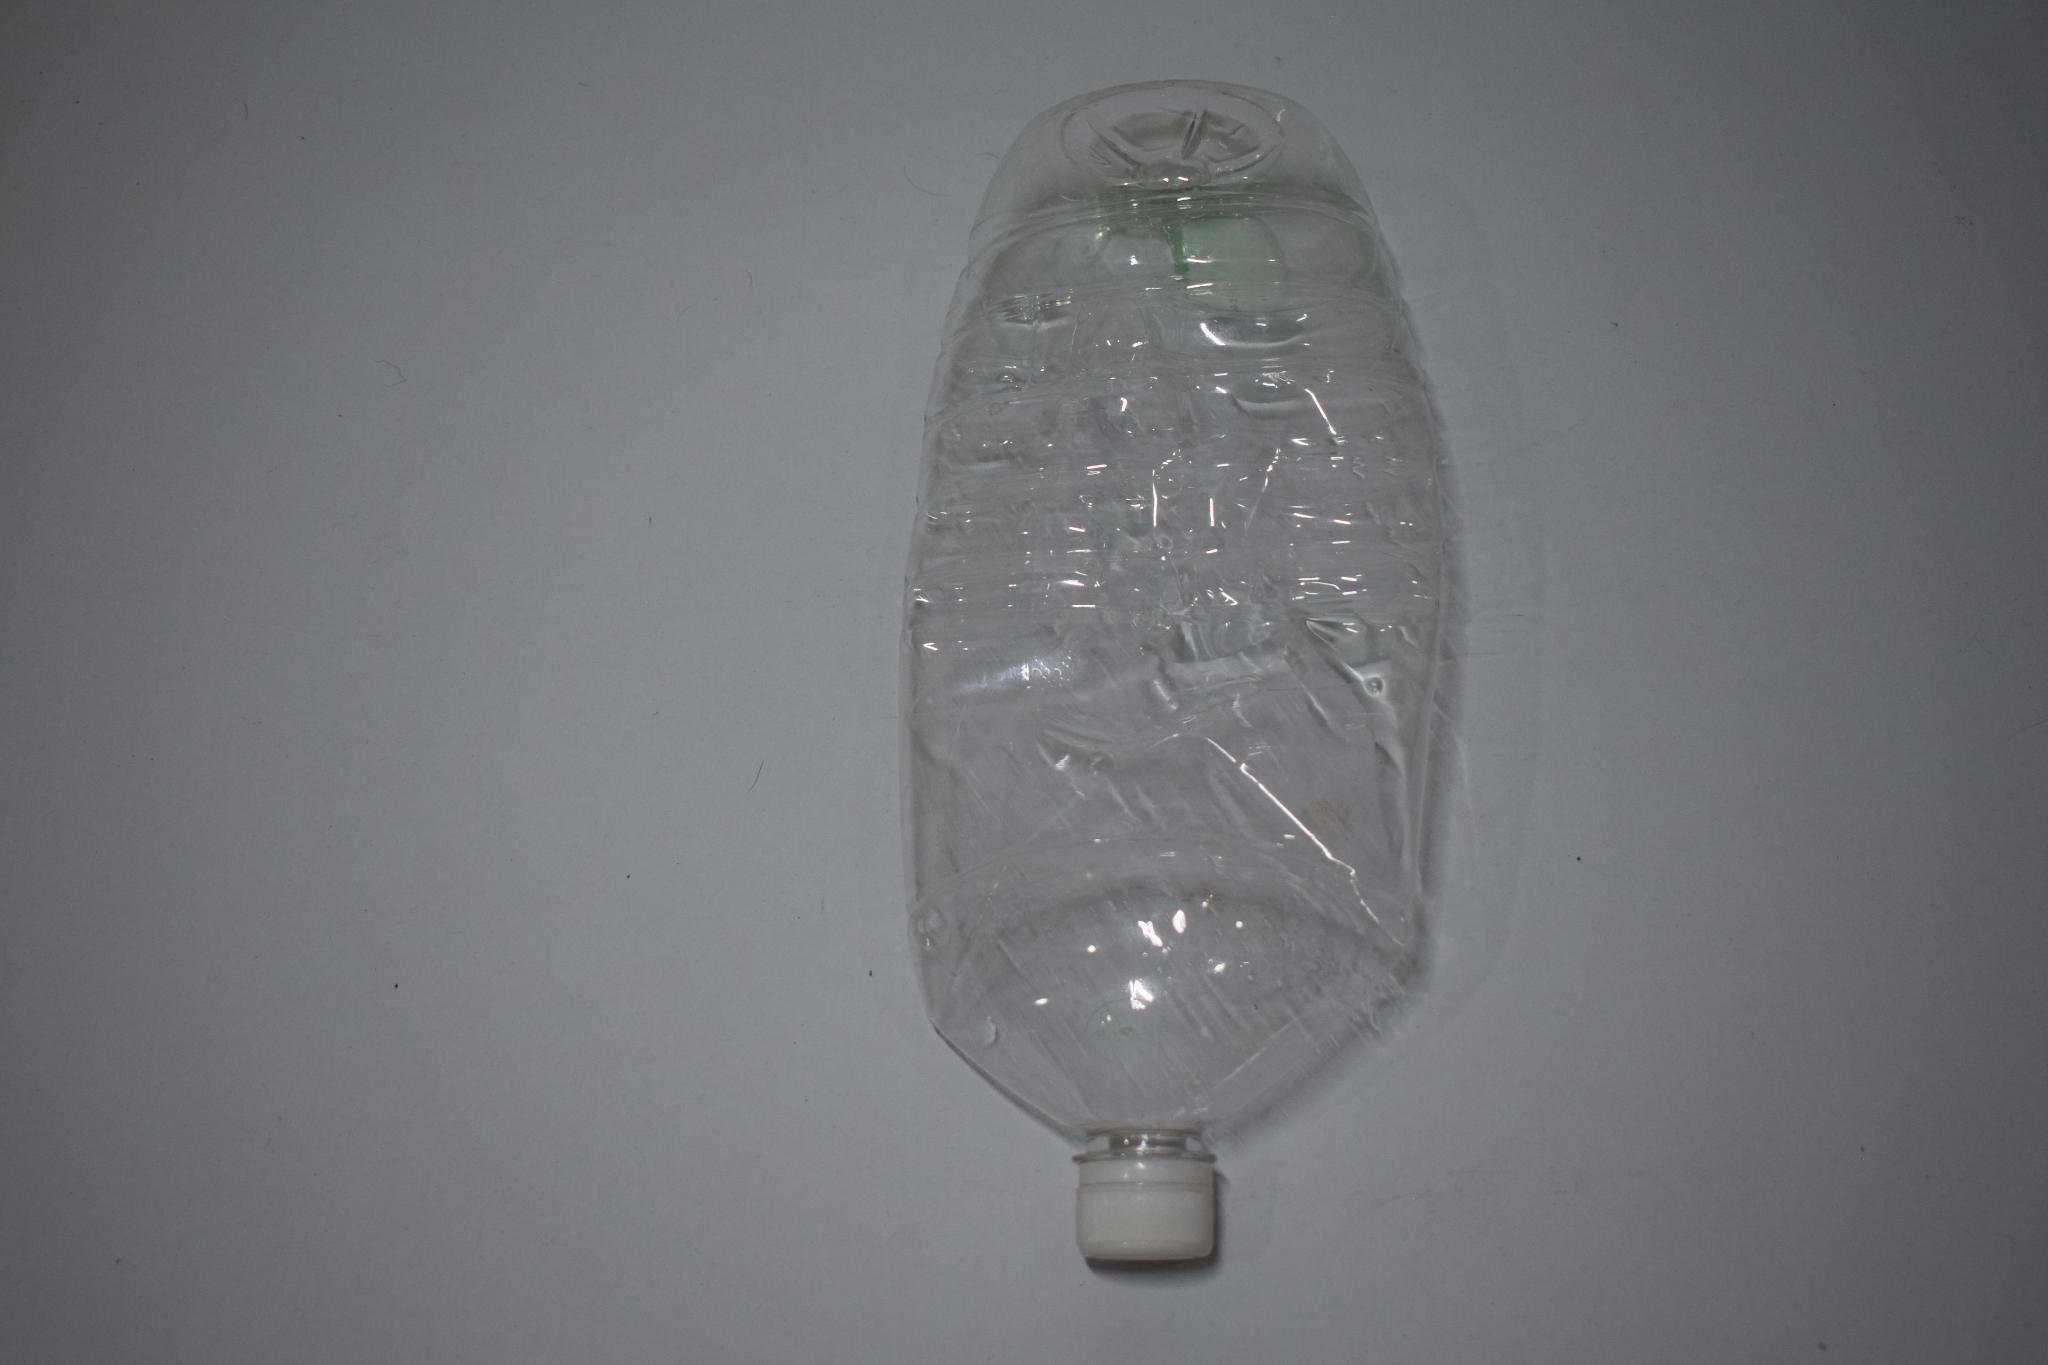bottle: (872, 87, 1476, 1291)
